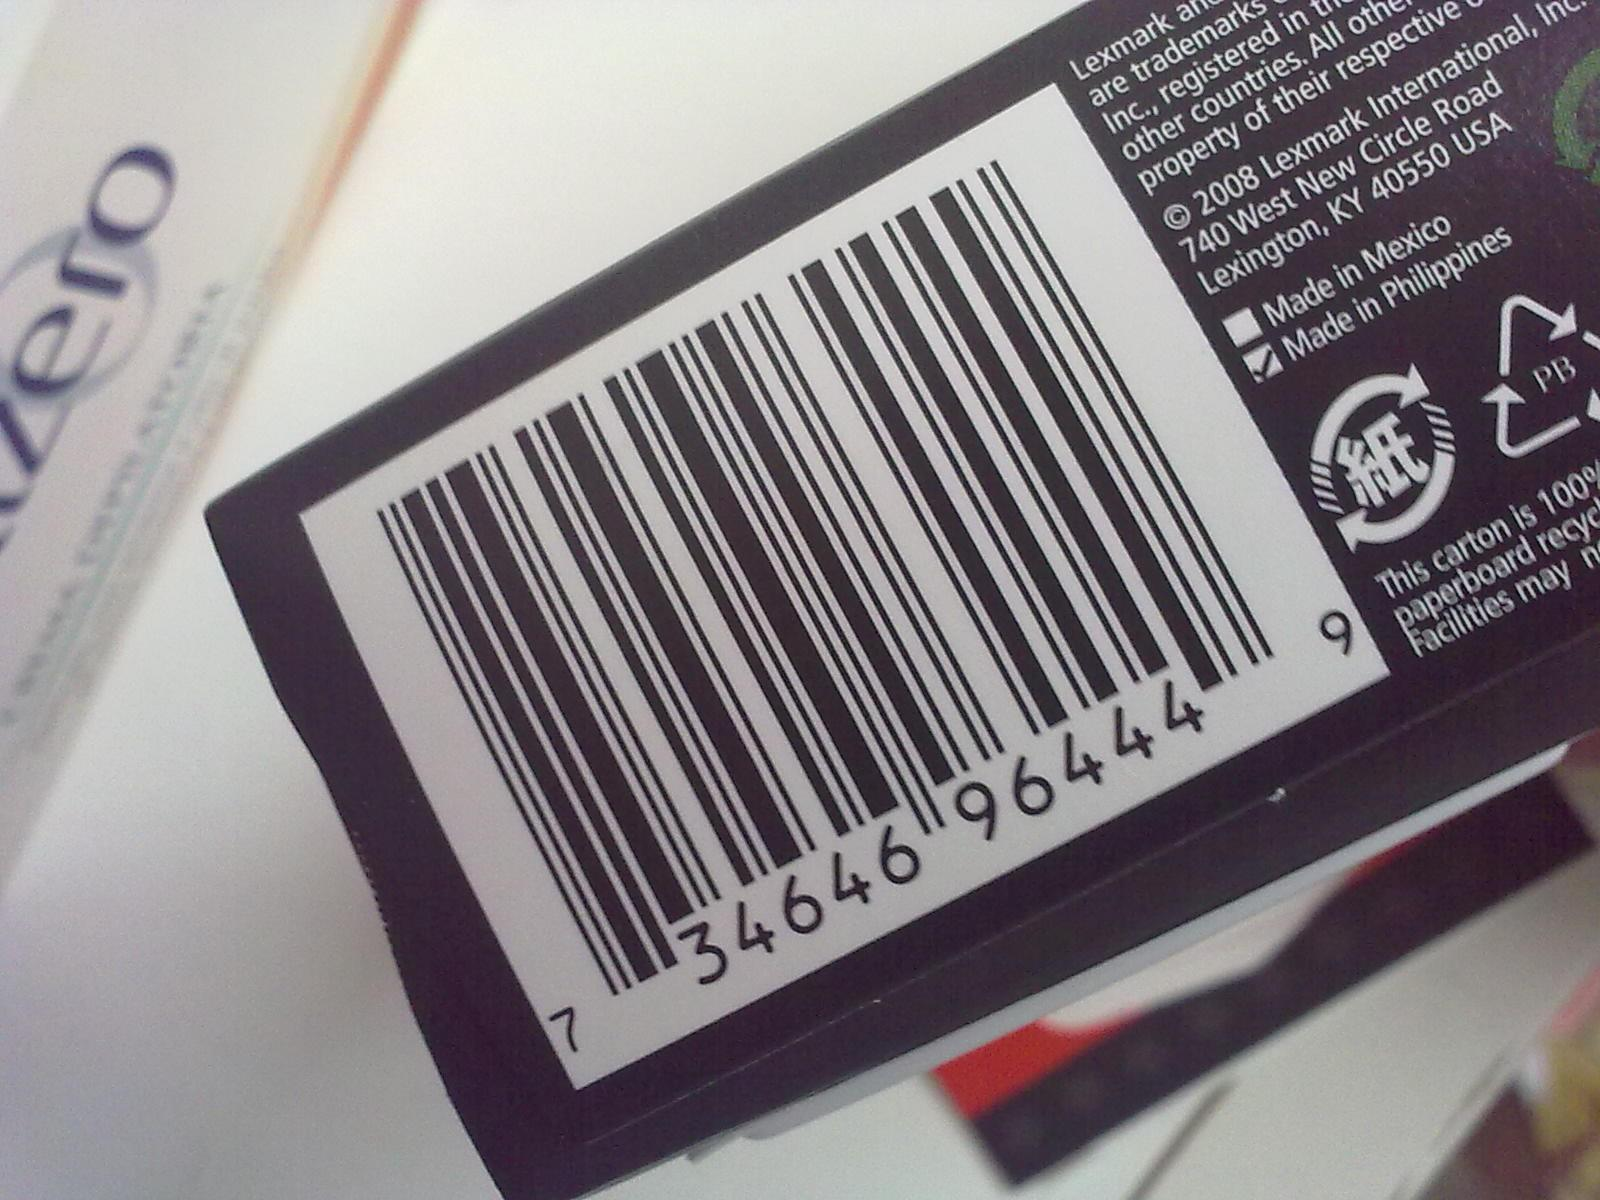Barcode: (295, 82, 1393, 1095)
